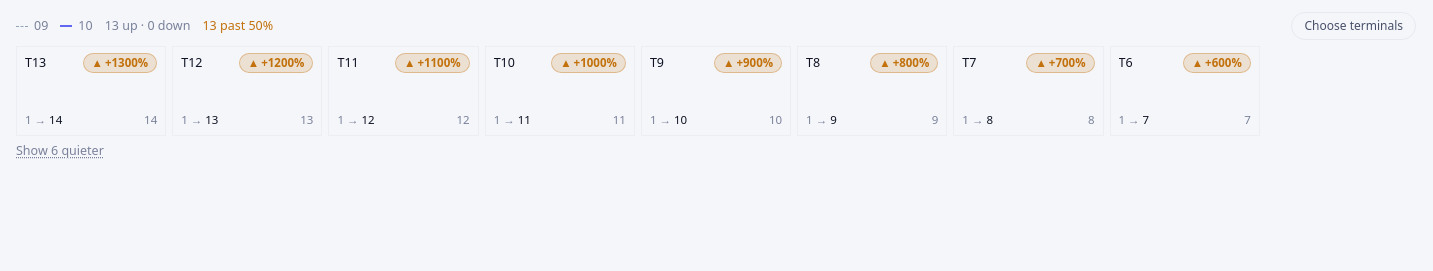
Test case: CompareGridView › shows only the biggest movers, with the rest a click away
Click the button "Show 6 quieter".
click(60, 151)  # box [16, 142, 104, 160]
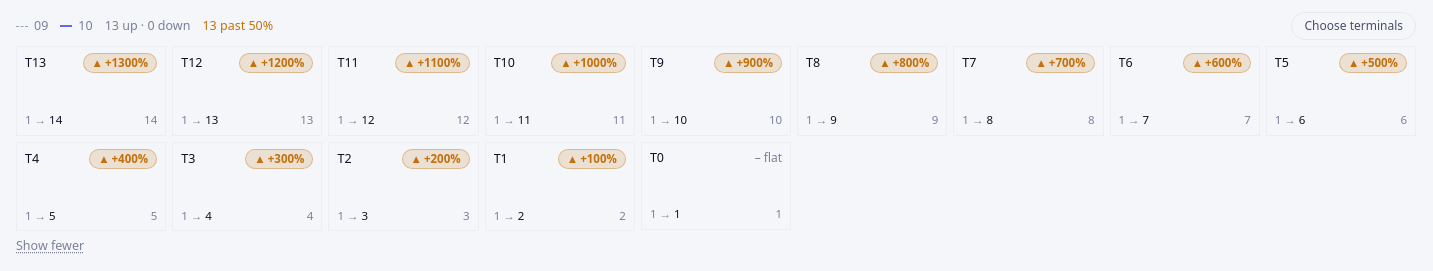
Check: the number of list items is 14
